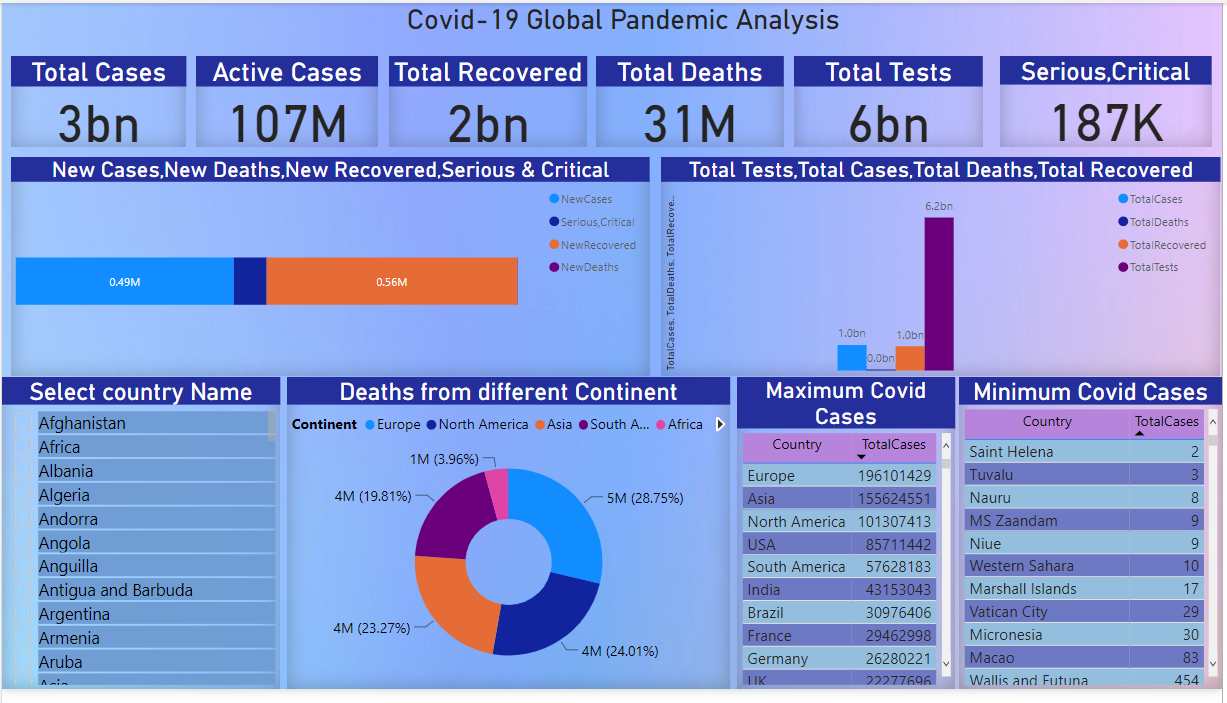

This screenshot's page, from the dashboard's own definition file:
{"tool":"powerbi","page":{"name":"Page 1","canvas":[1280,720],"ordinal":0},"visuals":[{"type":"card","title":"Total Cases","fields":{"Values":["Sum(Table 1.TotalCases)"]},"box":[9.7,55.4,184.2,95.6],"z":0},{"type":"card","title":"Active Cases","fields":{"Values":["Sum(Table 1.ActiveCases)"]},"box":[203.6,55.4,191.2,95.6],"z":1000},{"type":"card","title":"Total Recovered","fields":{"Values":["Sum(Table 1.TotalRecovered)"]},"box":[405.9,55.4,207.8,95.6],"z":2000},{"type":"card","title":"Total Deaths","fields":{"Values":["Sum(Table 1.TotalDeaths)"]},"box":[623.4,55.4,196.7,95.6],"z":3000},{"type":"card","title":"Total Tests","fields":{"Values":["Sum(Table 1.TotalTests)"]},"box":[831.2,55.4,198.1,95.6],"z":4000},{"type":"card","title":"Serious,Critical","fields":{"Values":["Sum(Table 1.Serious,Critical)"]},"box":[1047.3,55.4,221.6,95.6],"z":5000},{"type":"slicer","title":"Select country Name","fields":{"Values":["Table 1.Country"]},"box":[0,392.4,291.7,328.4],"z":6000},{"type":"donutChart","title":"Deaths from different Continent","fields":{"Y":["Sum(Table 1.TotalDeaths)"],"Category":["Table 1.Continent"]},"box":[299,392.4,464.8,328.4],"z":7000},{"type":"tableEx","title":"Maximum Covid Cases","fields":{"Values":["Table 1.Country,Other","Sum(Table 1.TotalCases)"]},"box":[771.6,392,228.6,328.3],"z":8000},{"type":"tableEx","title":"Minimum Covid Cases","fields":{"Values":["Table 1.Country,Other","Sum(Table 1.TotalCases)"]},"box":[1004.3,392,275.7,328.3],"z":9000},{"type":"clusteredColumnChart","title":"Total Tests,Total Cases,Total Deaths,Total Recovered","fields":{"Y":["Sum(Table 1.TotalCases)","Sum(Table 1.TotalDeaths)","Sum(Table 1.TotalRecovered)","Sum(Table 1.TotalTests)"]},"box":[691.3,162.1,587.4,230],"z":10000},{"type":"barChart","title":"New Cases,New Deaths,New Recovered,Serious & Critical","fields":{"Y":["Sum(Table 1.NewCases)","Sum(Table 1.Serious,Critical)","Sum(Table 1.NewRecovered)","Sum(Table 1.NewDeaths)"]},"box":[9.7,162.1,670.5,230],"z":11000},{"type":"actionButton","title":"Covid-19 Global Pandemic Analysis","box":[425.3,0,622,37.4],"z":12000}]}

Visuals, with their boxes in screenshot pixels (x1, y1, x2, y2), scaled from the page's 1280x720 canvas onto the 1227x703 screenshot:
"Total Cases" card: [9,54,186,147]
"Active Cases" card: [195,54,378,147]
"Total Recovered" card: [389,54,588,147]
"Total Deaths" card: [598,54,786,147]
"Total Tests" card: [797,54,987,147]
"Serious,Critical" card: [1004,54,1216,147]
"Select country Name" slicer: [0,383,280,702]
"Deaths from different Continent" donutChart: [287,383,732,702]
"Maximum Covid Cases" tableEx: [740,383,959,702]
"Minimum Covid Cases" tableEx: [963,383,1226,702]
"Total Tests,Total Cases,Total Deaths,Total Recovered" clusteredColumnChart: [663,158,1226,383]
"New Cases,New Deaths,New Recovered,Serious & Critical" barChart: [9,158,652,383]
"Covid-19 Global Pandemic Analysis" actionButton: [408,0,1004,37]
